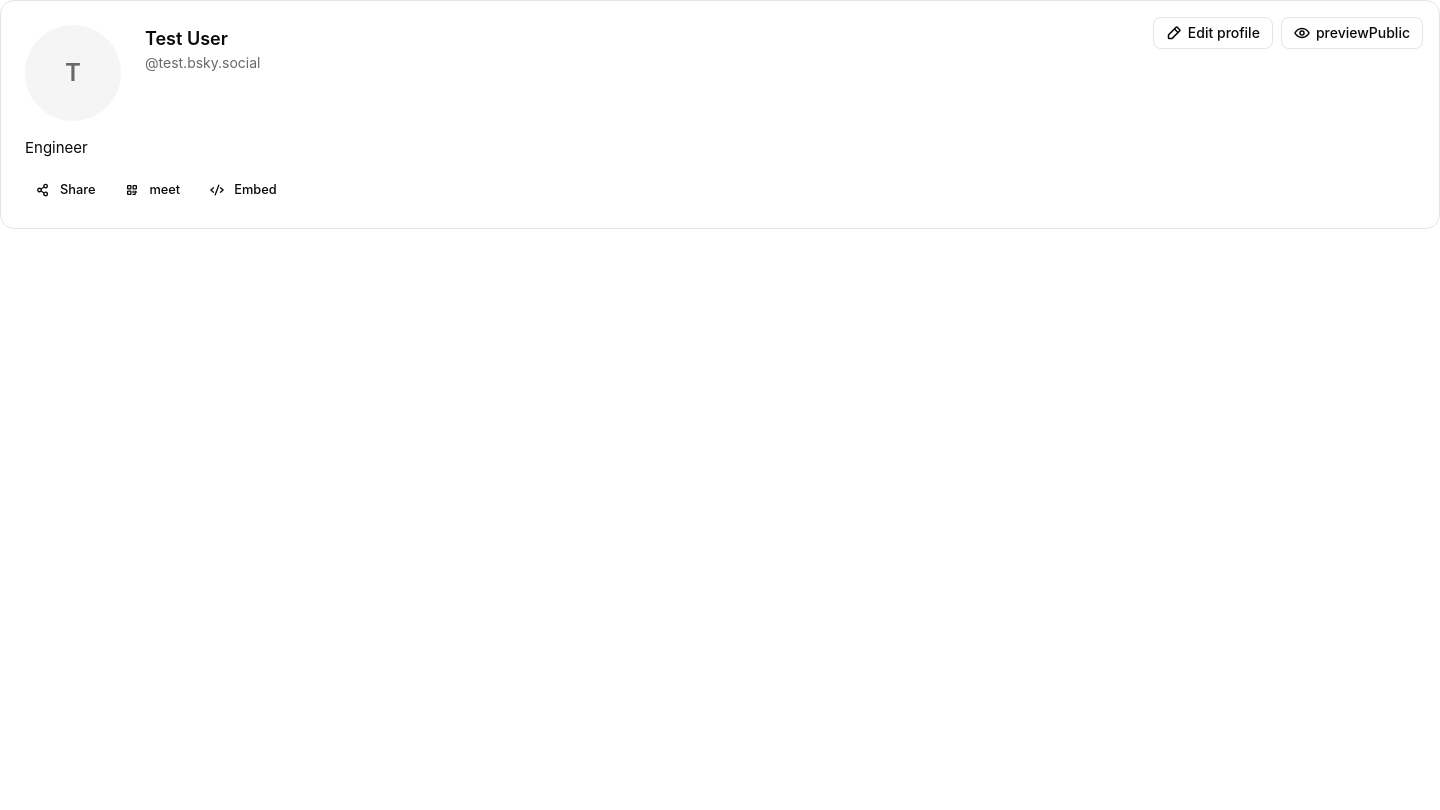
Test: Edit Profile button (integration) › opens the edit dialog without throwing when IdentityCard is inside ProfileEditProvider
What coordinates should you click on to do the following:
click the button "Edit profile"
I would click on:
 (1213, 33)
Its box is [1153,17,1273,49].
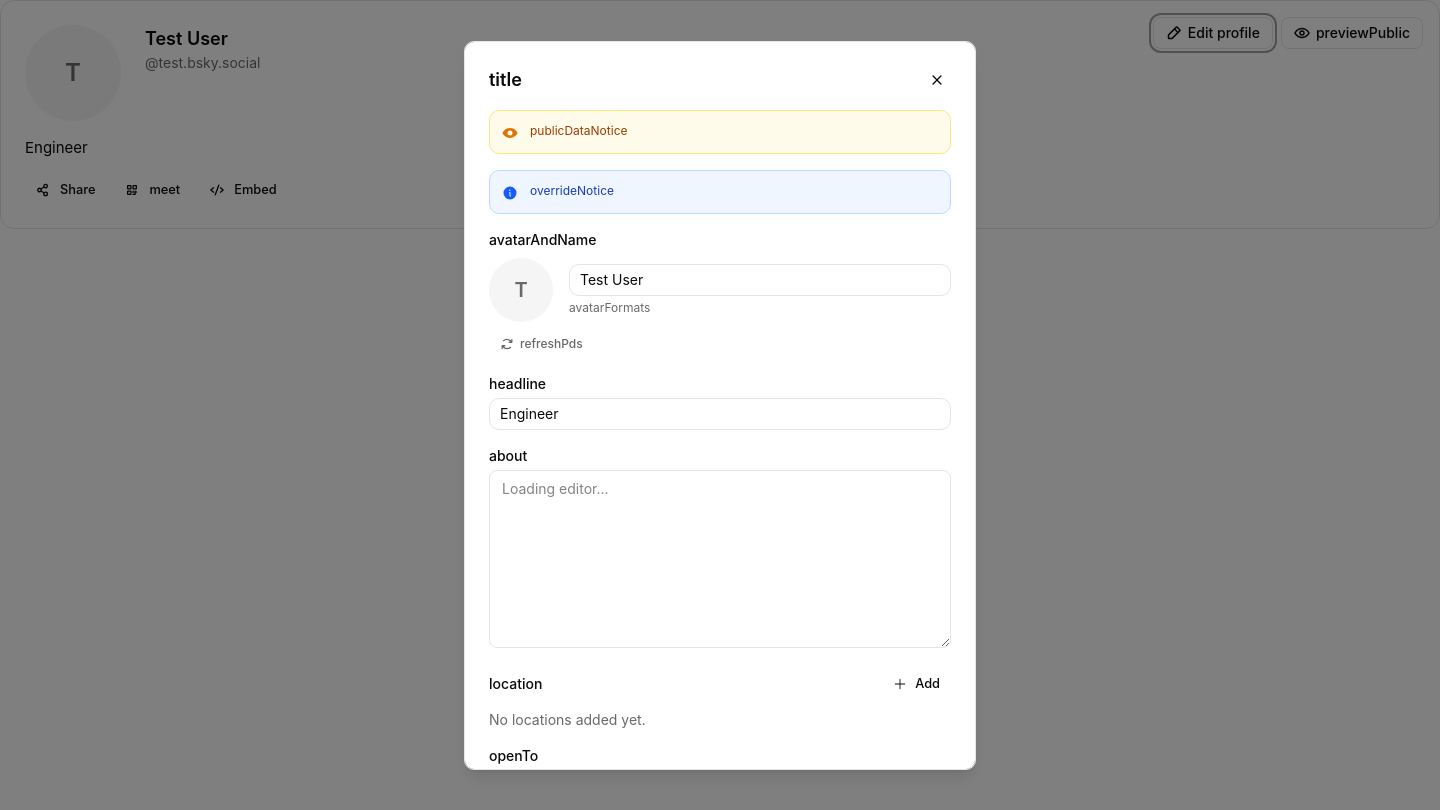
expect the dialog is shown: met
